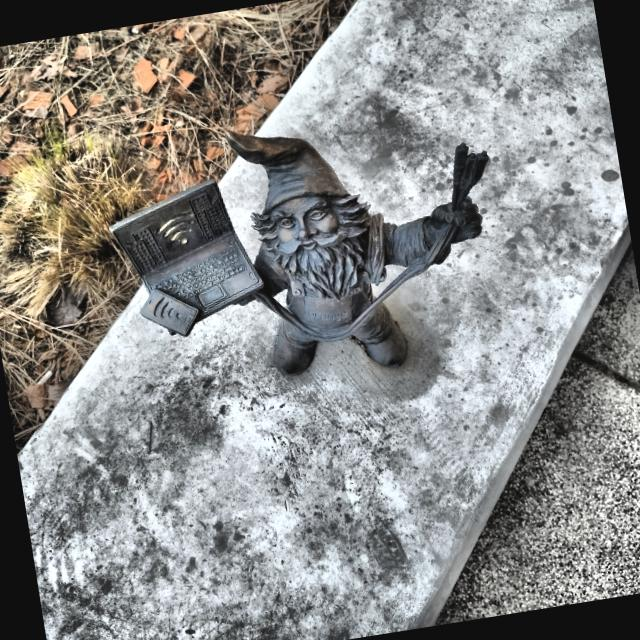Krasnal_Teleclaw: (111, 133, 488, 375)
